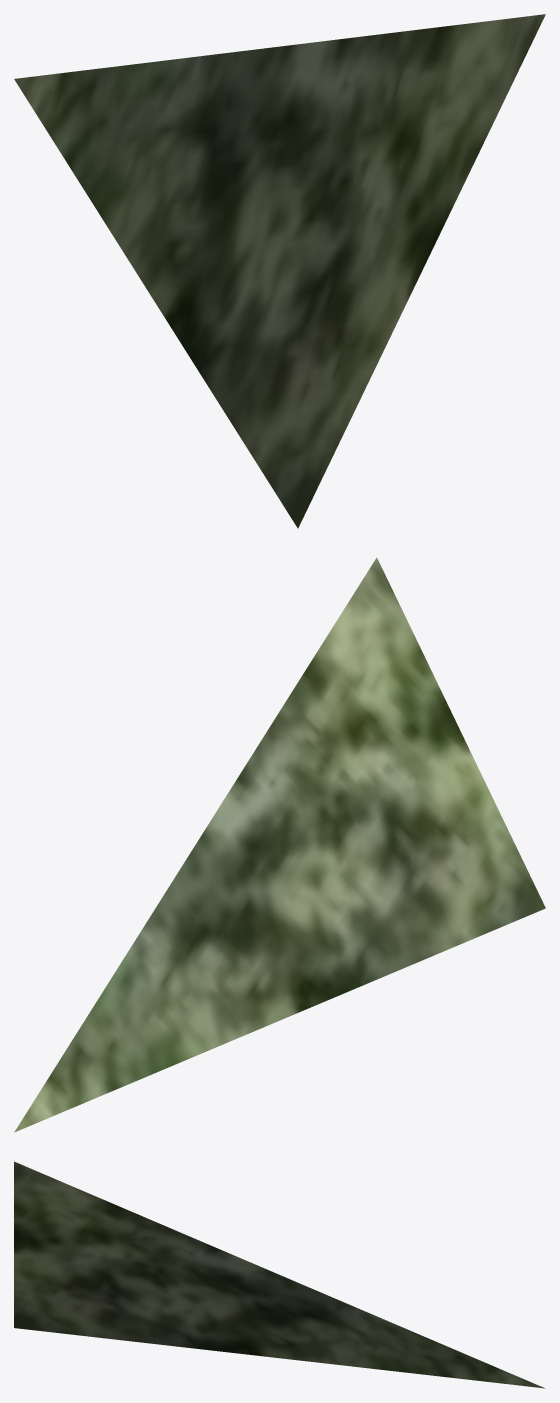
3 renders of one model, top to bottom at view 1: azimuth 30°, elevation 25°; view 2: azimuth 150°, elevation 25°; view 3: azimuth 270°, elevation 25°, orthographic. The views are drawn at different scales.
Size of the model in its own units: 0.404 by 0.7072 by 1.5.
Materials: 1 (1 with a texture image).
